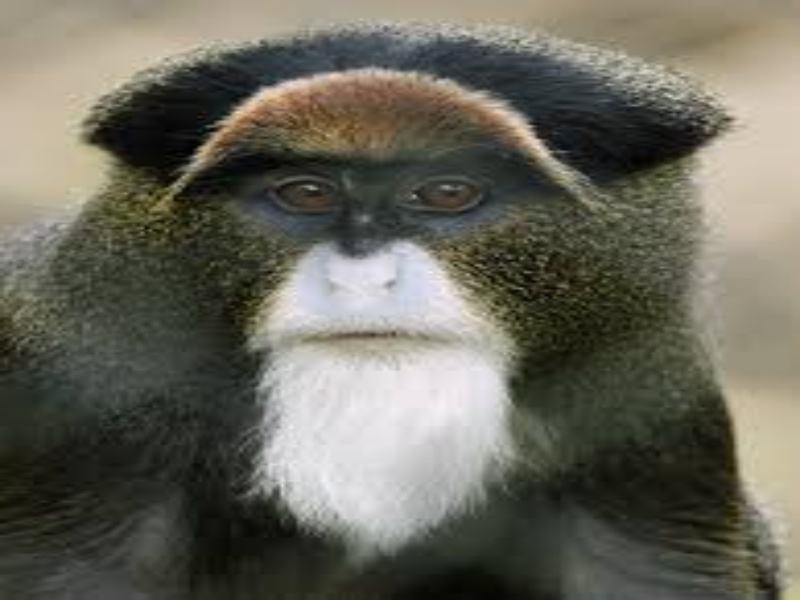monkey: (31, 20, 771, 570)
